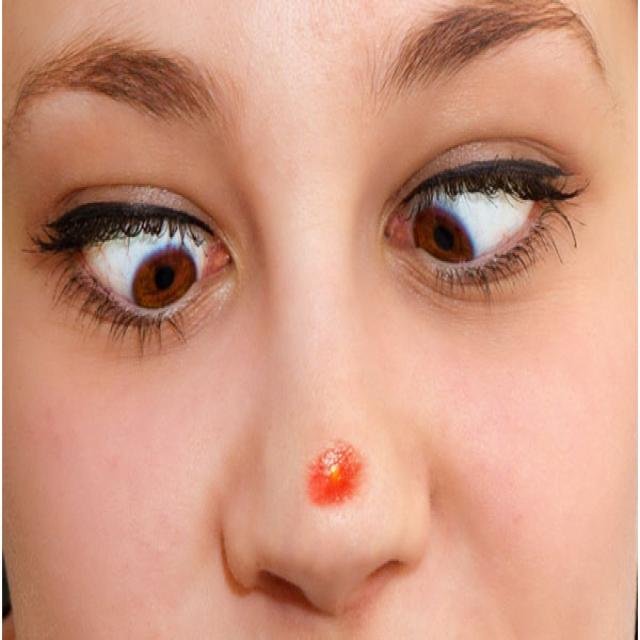Acne: (301, 430, 374, 516)
